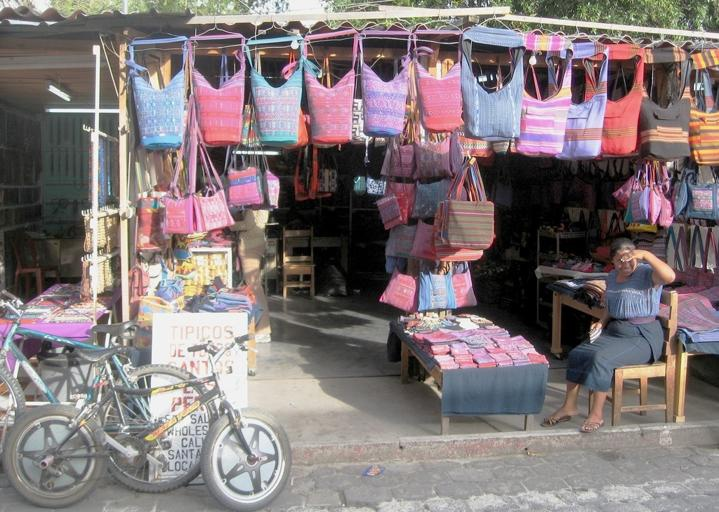non-vehicle: (1, 331, 290, 511), (0, 285, 217, 495)
